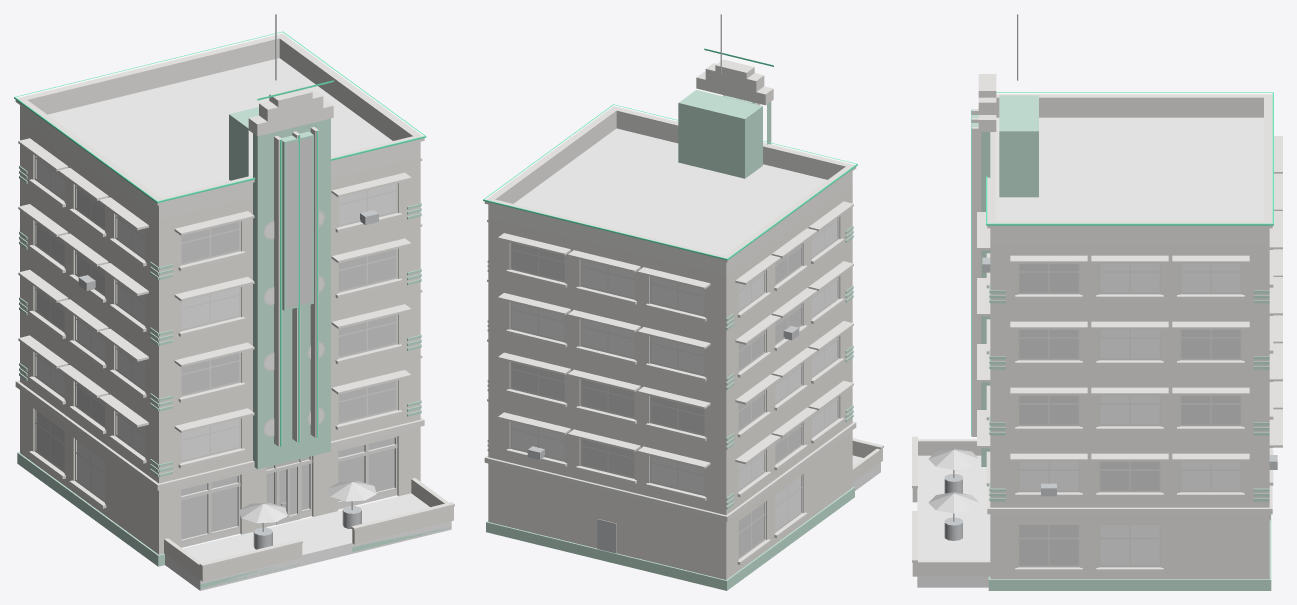
Rendered from deco_w50f4.glb.
3 views of the same model, side by side, from view 1: azimuth 30°, elevation 25°; view 2: azimuth 150°, elevation 25°; view 3: azimuth 270°, elevation 25° (orthographic). The views are drawn at different scales.
Visible parts, largest first — view 1: deco_w50f4_Walls, deco_w50f4_Trim, deco_w50f4_Accent, deco_w50f4_Roof, deco_w50f4_WindowsLit, deco_w50f4_Glass, deco_w50f4_Frames, deco_w50f4_Walls2, deco_w50f4_Brand, deco_w50f4_Neon, deco_w50f4_Awning, deco_w50f4_Details; view 2: deco_w50f4_Walls, deco_w50f4_Trim, deco_w50f4_Roof, deco_w50f4_Glass, deco_w50f4_Accent, deco_w50f4_WindowsLit, deco_w50f4_Frames, deco_w50f4_Neon, deco_w50f4_Details; view 3: deco_w50f4_Walls, deco_w50f4_Trim, deco_w50f4_Roof, deco_w50f4_WindowsLit, deco_w50f4_Glass, deco_w50f4_Accent, deco_w50f4_Frames, deco_w50f4_Walls2, deco_w50f4_Neon, deco_w50f4_Awning, deco_w50f4_Details.
Part boxes in pixels (x1=…): deco_w50f4_Walls: x1=20, y1=119, x2=453, y2=581; deco_w50f4_Trim: x1=15, y1=33, x2=454, y2=567; deco_w50f4_Accent: x1=17, y1=107, x2=451, y2=589; deco_w50f4_Roof: x1=48, y1=58, x2=392, y2=197; deco_w50f4_WindowsLit: x1=36, y1=186, x2=396, y2=539; deco_w50f4_Glass: x1=36, y1=157, x2=396, y2=500; deco_w50f4_Frames: x1=34, y1=155, x2=397, y2=542; deco_w50f4_Walls2: x1=165, y1=493, x2=451, y2=590; deco_w50f4_Brand: x1=286, y1=137, x2=311, y2=307; deco_w50f4_Neon: x1=14, y1=31, x2=426, y2=446; deco_w50f4_Awning: x1=239, y1=481, x2=376, y2=523; deco_w50f4_Details: x1=78, y1=14, x2=378, y2=549; deco_w50f4_Walls: x1=488, y1=184, x2=882, y2=579; deco_w50f4_Trim: x1=484, y1=59, x2=883, y2=564; deco_w50f4_Roof: x1=514, y1=128, x2=826, y2=255; deco_w50f4_Glass: x1=511, y1=218, x2=837, y2=530; deco_w50f4_Accent: x1=486, y1=90, x2=854, y2=590; deco_w50f4_WindowsLit: x1=511, y1=243, x2=800, y2=557; deco_w50f4_Frames: x1=510, y1=217, x2=839, y2=559; deco_w50f4_Neon: x1=483, y1=48, x2=857, y2=260; deco_w50f4_Details: x1=527, y1=14, x2=799, y2=553; deco_w50f4_Walls: x1=912, y1=243, x2=1269, y2=579; deco_w50f4_Trim: x1=912, y1=74, x2=1282, y2=572; deco_w50f4_Roof: x1=995, y1=117, x2=1263, y2=221; deco_w50f4_WindowsLit: x1=1019, y1=263, x2=1240, y2=565; deco_w50f4_Glass: x1=1019, y1=263, x2=1240, y2=565; deco_w50f4_Accent: x1=917, y1=95, x2=1271, y2=590; deco_w50f4_Frames: x1=1017, y1=263, x2=1242, y2=567; deco_w50f4_Walls2: x1=917, y1=455, x2=990, y2=587; deco_w50f4_Neon: x1=971, y1=92, x2=1273, y2=436; deco_w50f4_Awning: x1=928, y1=448, x2=978, y2=513; deco_w50f4_Details: x1=944, y1=14, x2=1277, y2=540.
Size of the model in its own units: 54.4 by 93 by 61.1.
